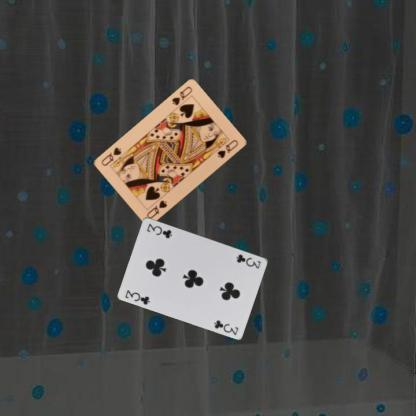3c: (122, 287, 152, 306), (234, 251, 262, 270)
Qs: (169, 84, 194, 107), (144, 198, 168, 220)
